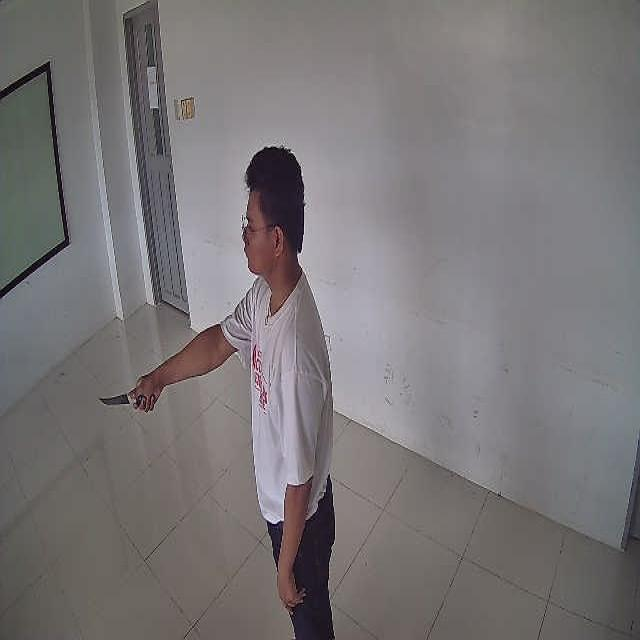knife: (99, 393, 148, 407)
